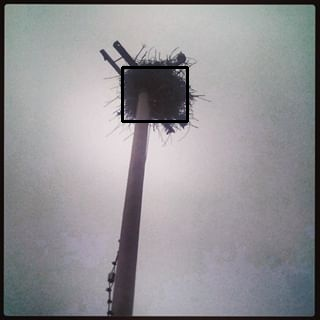bird-nest: (122, 67, 187, 121)
